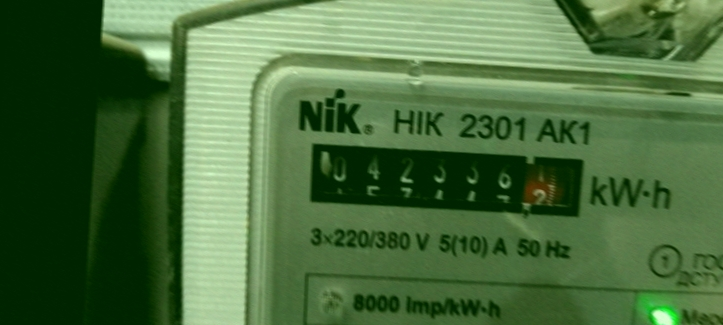0: (330, 152, 348, 181)
1: (533, 159, 547, 182)
2: (398, 152, 416, 182), (530, 185, 547, 204)
3: (462, 153, 480, 184), (430, 153, 447, 182)
4: (364, 149, 383, 179)
6: (496, 158, 515, 189)
screen: (296, 127, 597, 227)
